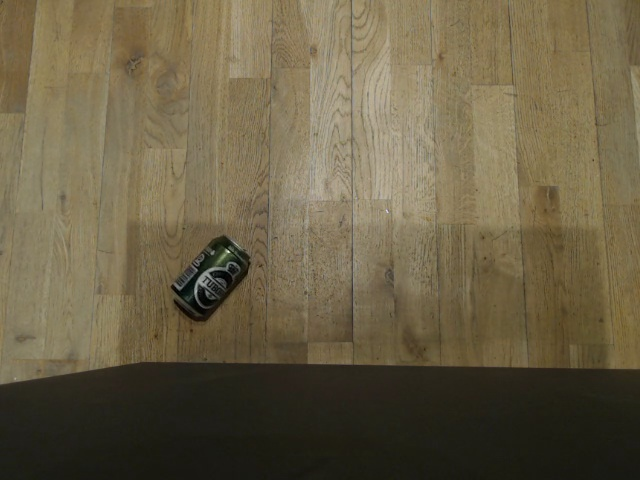beer: (166, 231, 253, 322)
